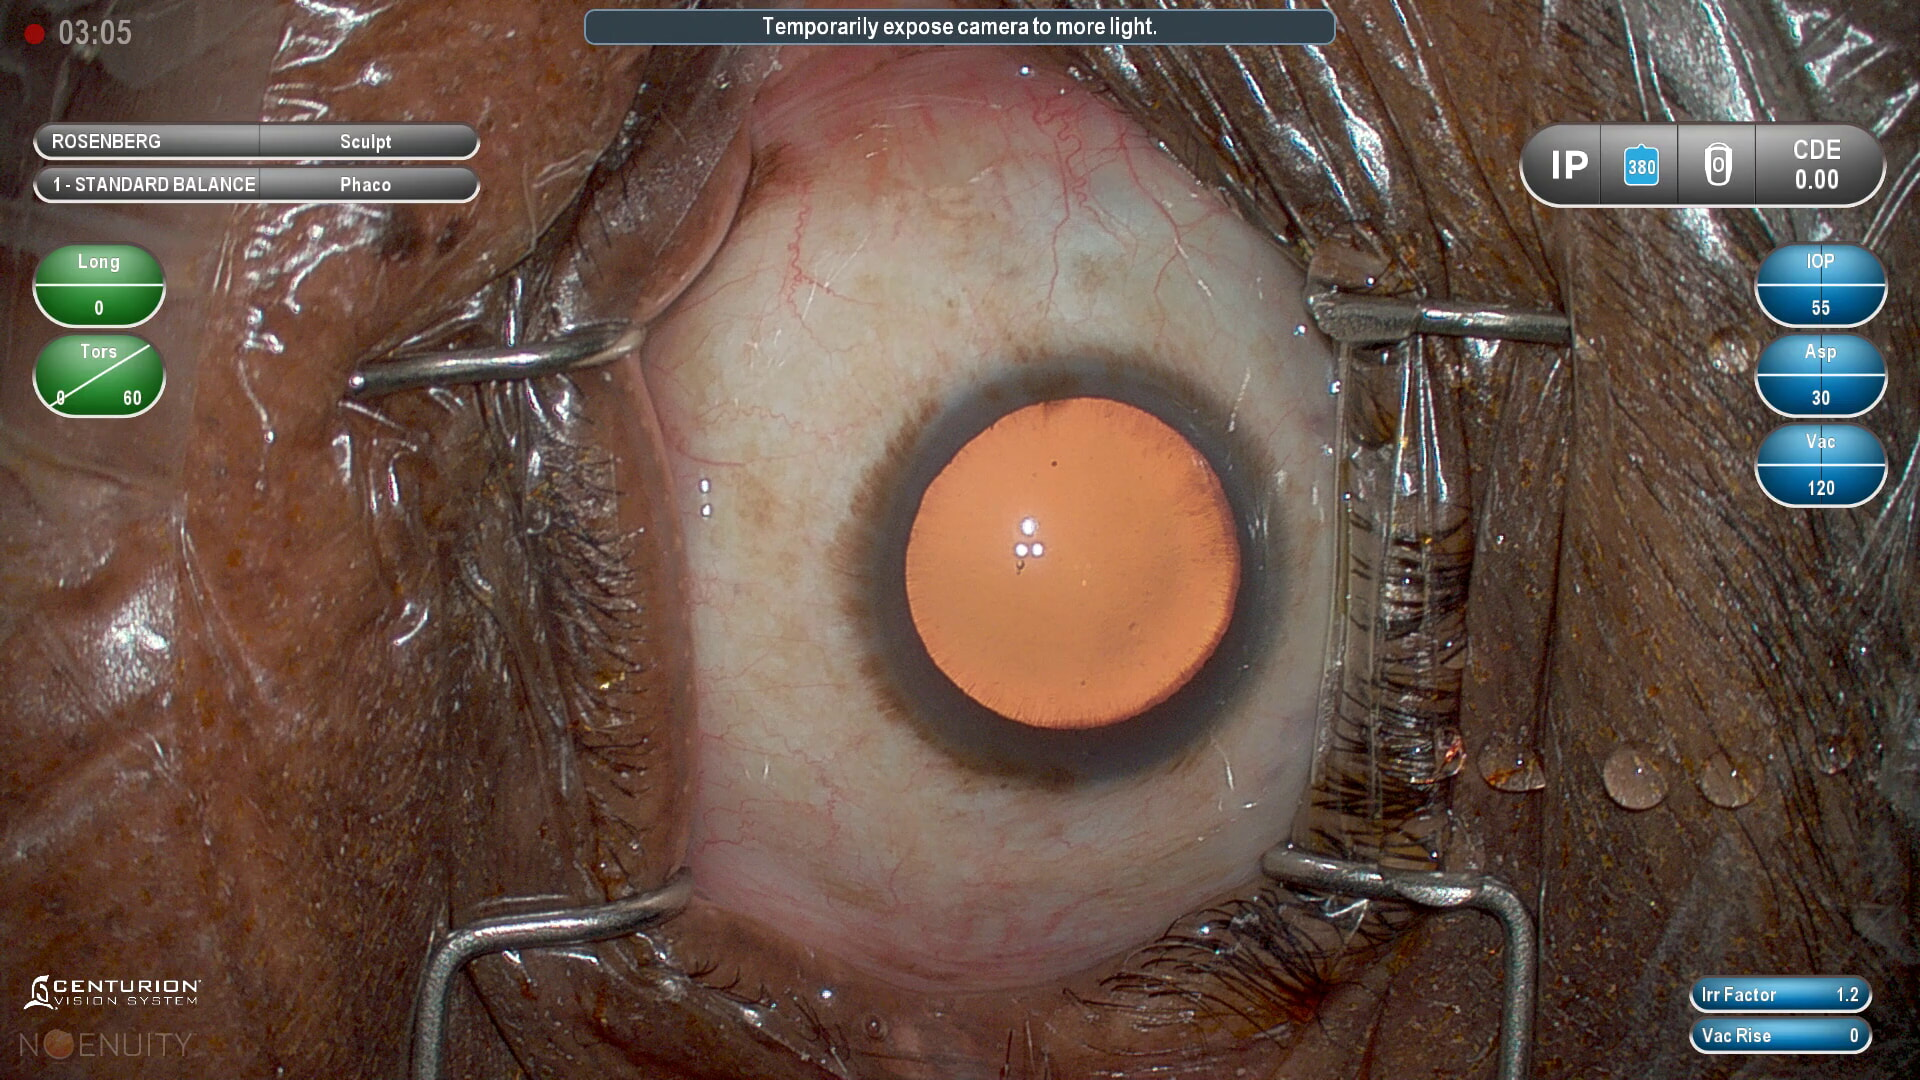iris: (872, 378, 1260, 763)
pupil: (901, 395, 1242, 728)
